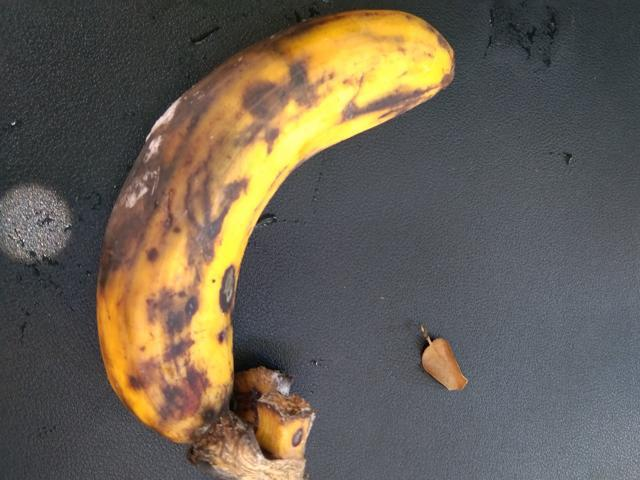overripe: (130, 7, 462, 475)
rotten: (61, 48, 284, 349)
